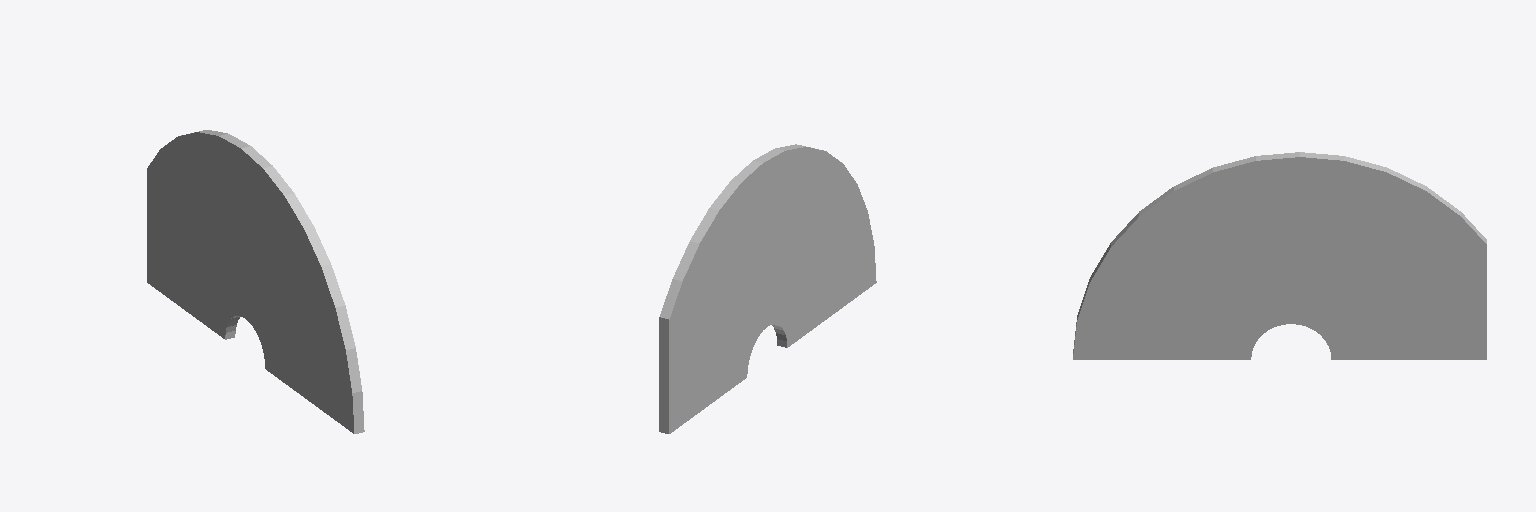
The model's file is doorr.obj.
3 views of the same model, side by side, from view 1: azimuth 30°, elevation 25°; view 2: azimuth 150°, elevation 25°; view 3: azimuth 270°, elevation 25° (orthographic).
Visible parts, largest first — view 1: door.r_Cylinder.004; view 2: door.r_Cylinder.004; view 3: door.r_Cylinder.004.
Boxes of the visible parts, <box> form: door.r_Cylinder.004: <box>147,130,364,433</box>; door.r_Cylinder.004: <box>659,144,876,433</box>; door.r_Cylinder.004: <box>1073,152,1486,359</box>.
Size of the model in its own units: 0.0489 by 0.9377 by 1.74.